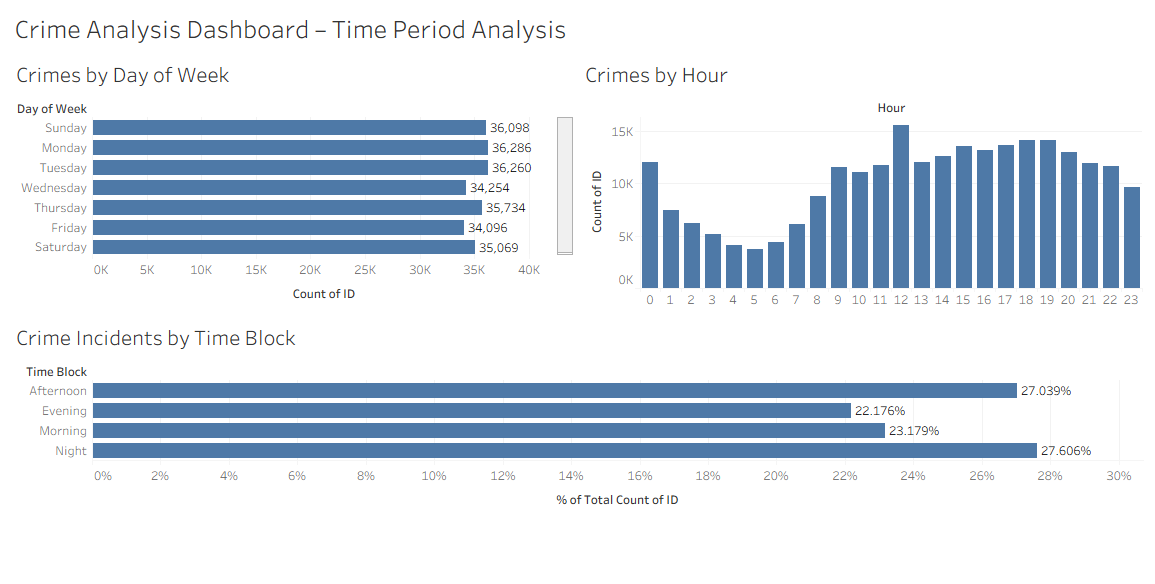

This screenshot's page, from the dashboard's own definition file:
{"tool":"tableau","page":{"name":"Time Period Analysis Dashboard","canvas":[1000,1000],"units":"permille","ordinal":3},"visuals":[{"type":"title","box":[6.9,13.7,986.1,71.9]},{"type":"worksheet","title":"Crimes by Day of Week","mark":"Automatic","rows":["Calculation_1582215791722497"],"cols":["ID"],"box":[6.9,85.6,493.1,450.3]},{"type":"worksheet","title":"Crimes by Hour","mark":"Automatic","rows":["ID"],"cols":["Calculation_1582215793147906"],"box":[500,85.6,493.1,450.3]},{"type":"worksheet","title":"Crime Incidents by Time Block","mark":"Automatic","rows":["Calculation_1582215794155523"],"cols":["ID"],"box":[6.9,536,986.1,450.3]}]}

Visuals, with their boxes on the dashboard's canvas, which has no fixed pixel size, in thousandths of its width and height (x1, y1, x2, y2). These are canvas units, not pixel positions in the 1155x584 screenshot, which may show the page scaled, cropped or inside an application window:
title: {"left": 7, "top": 14, "right": 993, "bottom": 86}
"Crimes by Day of Week" worksheet: {"left": 7, "top": 86, "right": 500, "bottom": 536}
"Crimes by Hour" worksheet: {"left": 500, "top": 86, "right": 993, "bottom": 536}
"Crime Incidents by Time Block" worksheet: {"left": 7, "top": 536, "right": 993, "bottom": 986}
